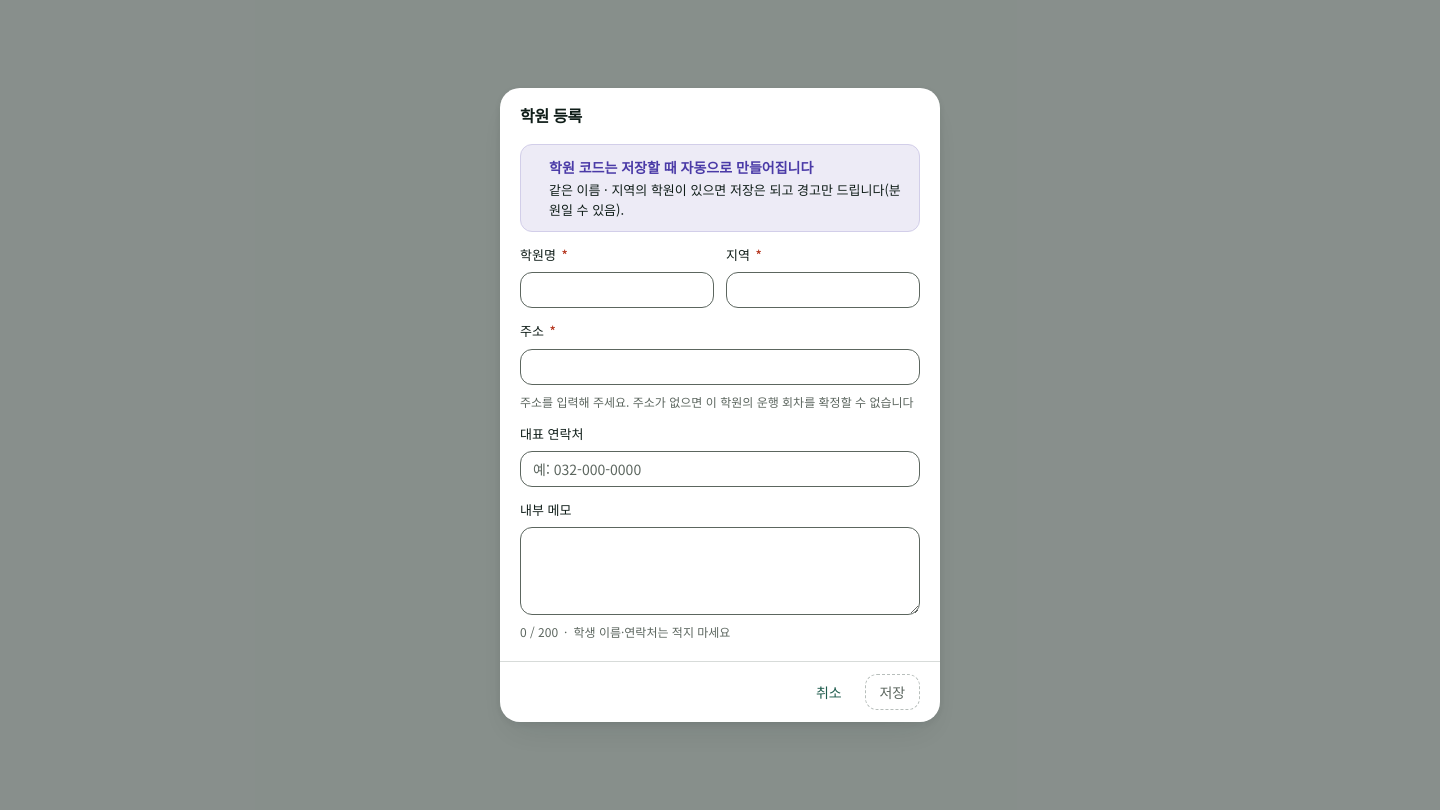
AcademyFormDialog — 주소 검증·메모 길이 › 422 ADDRESS_VERIFICATION_FAILED 는 서버 원문이 아니라 쉬운 한국어 문구로 알리고 닫지 않는다
The width and height of the screenshot is (1440, 810).
Step 1. Type "새 학원" into the field labelled "학원명 *" → {"x": 617, "y": 290}, box [520,272,714,308]
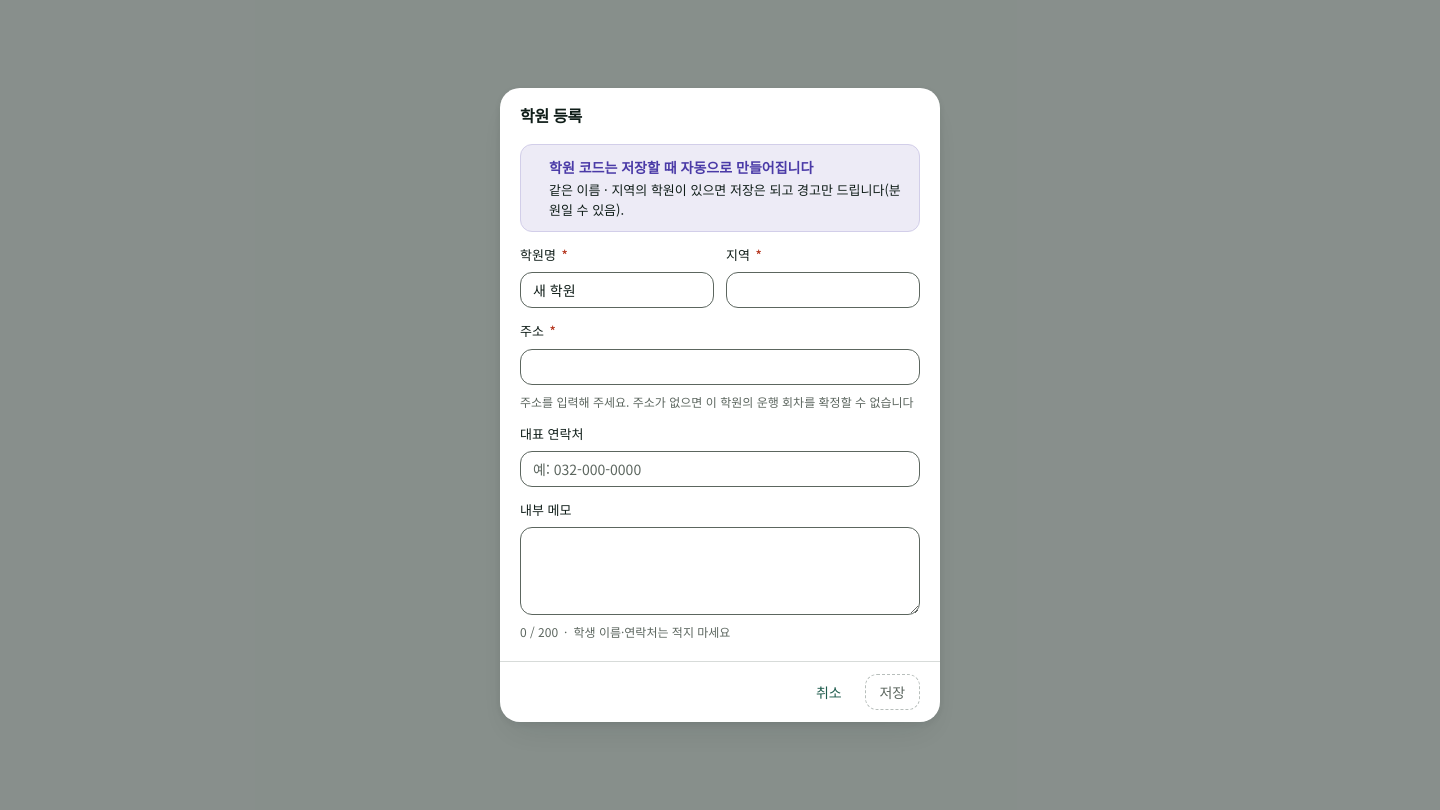
Step 2. Type "서울" into the field labelled "지역 *" → {"x": 823, "y": 290}, box [726,272,920,308]
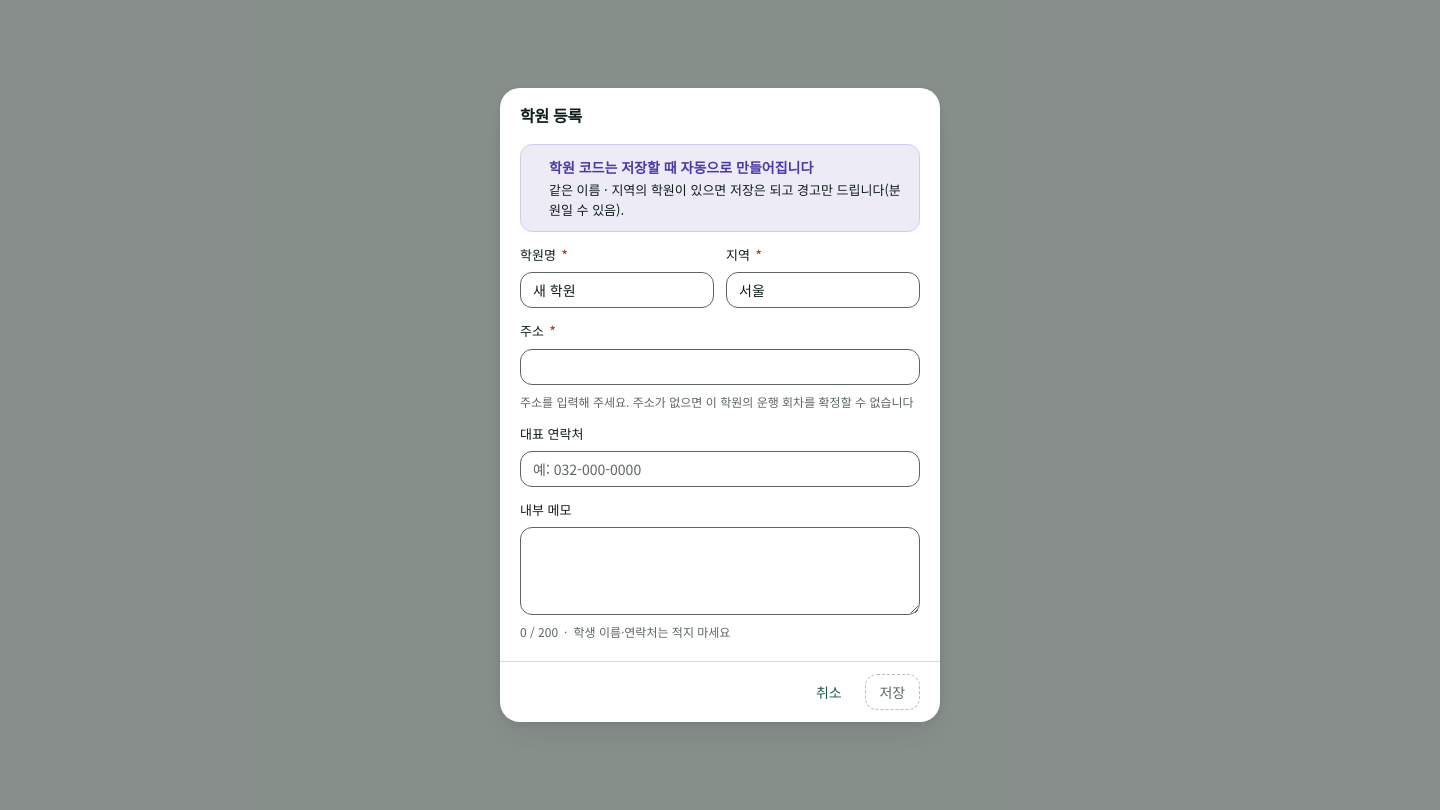
Step 3. Type "서울 강동구 천호대로 1" into the field labelled "주소 * 주소를 입력해 주세요. 주소가 없으면 이 학원의 운행 회차를 확정할 수 없습니다" → {"x": 720, "y": 366}, box [520,348,920,384]
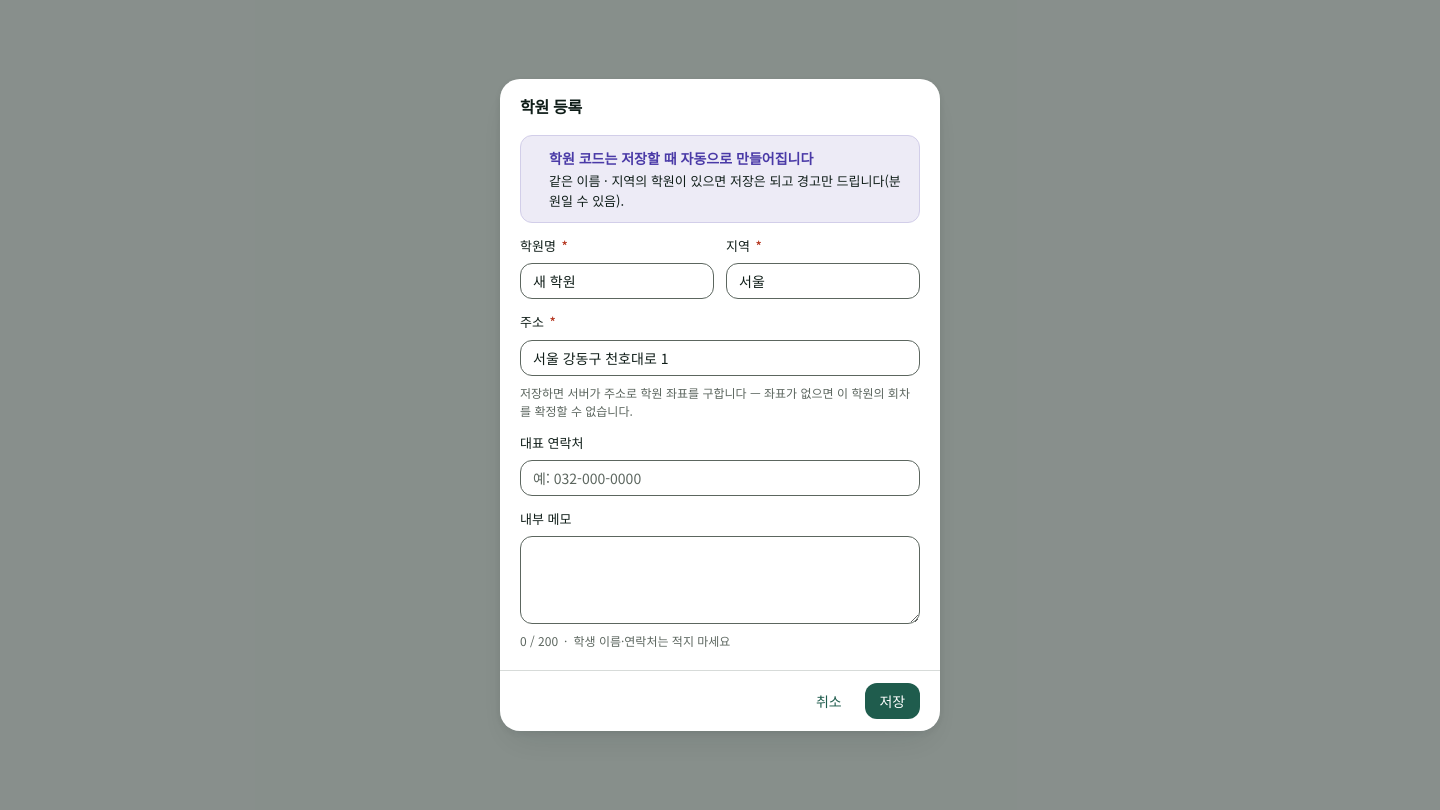
Step 4. Click the button "저장" → {"x": 892, "y": 701}, box [864,683,920,719]
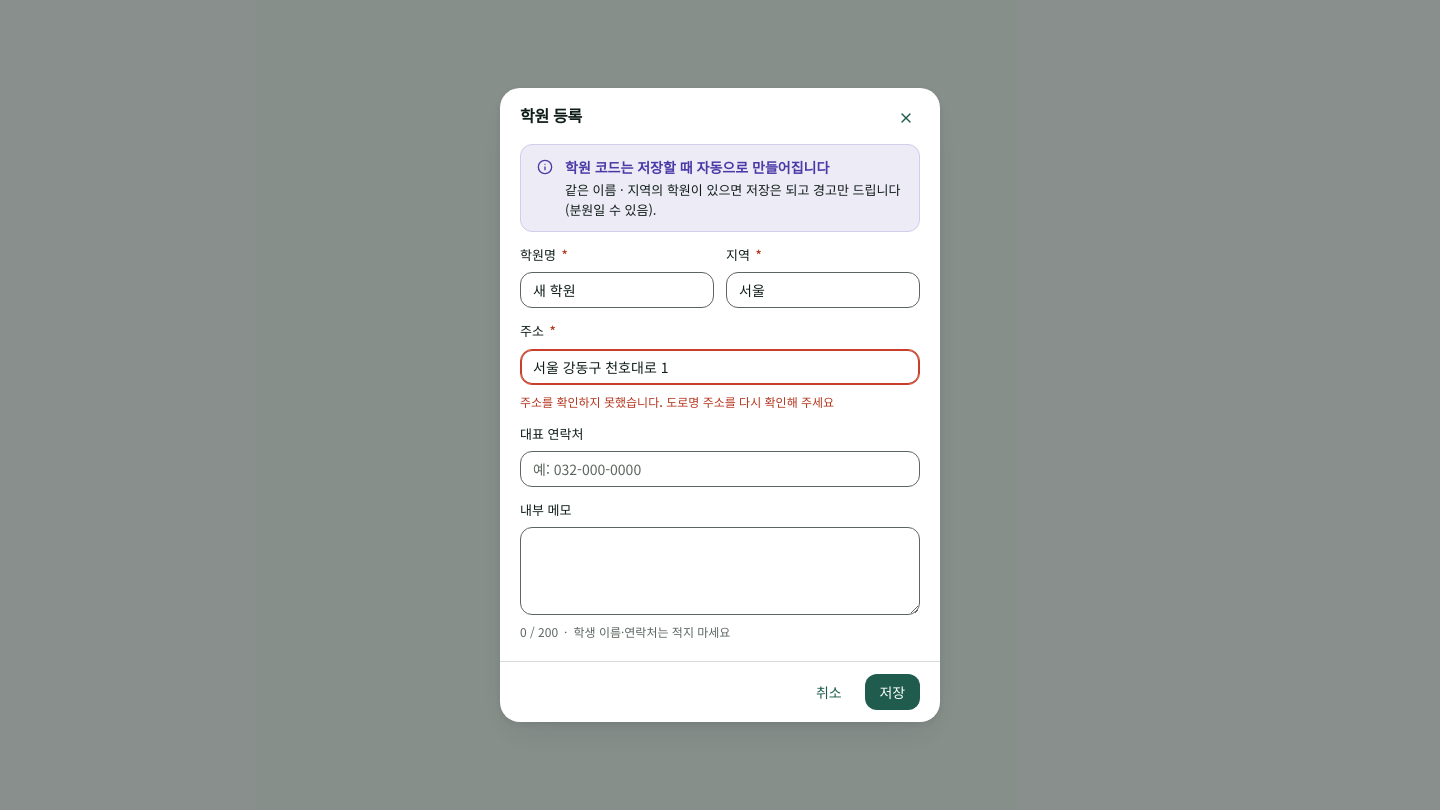
Expected: the text "주소를 확인하지 못했습니다. 도로명 주소를 다시 확인해 주세요" is shown, [520,392,834,410]
